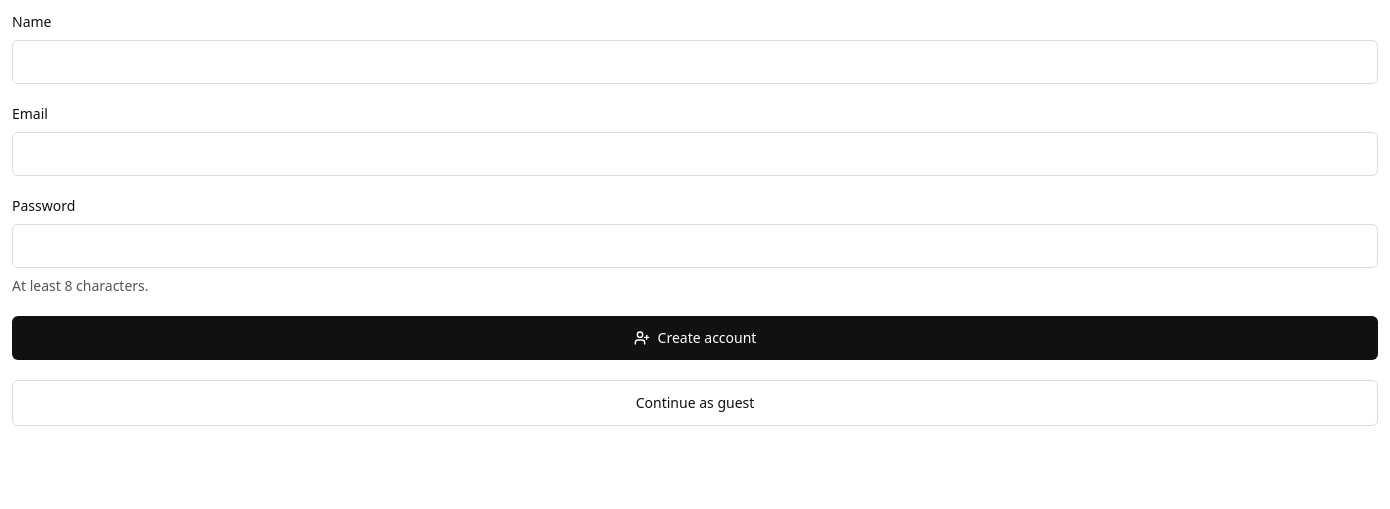
Test: SignupForm › shows a generic error when the server fails
The width and height of the screenshot is (1390, 509).
Type "Alice" into the field labelled "Name". click: (695, 62)
box: [12,40,1378,84]
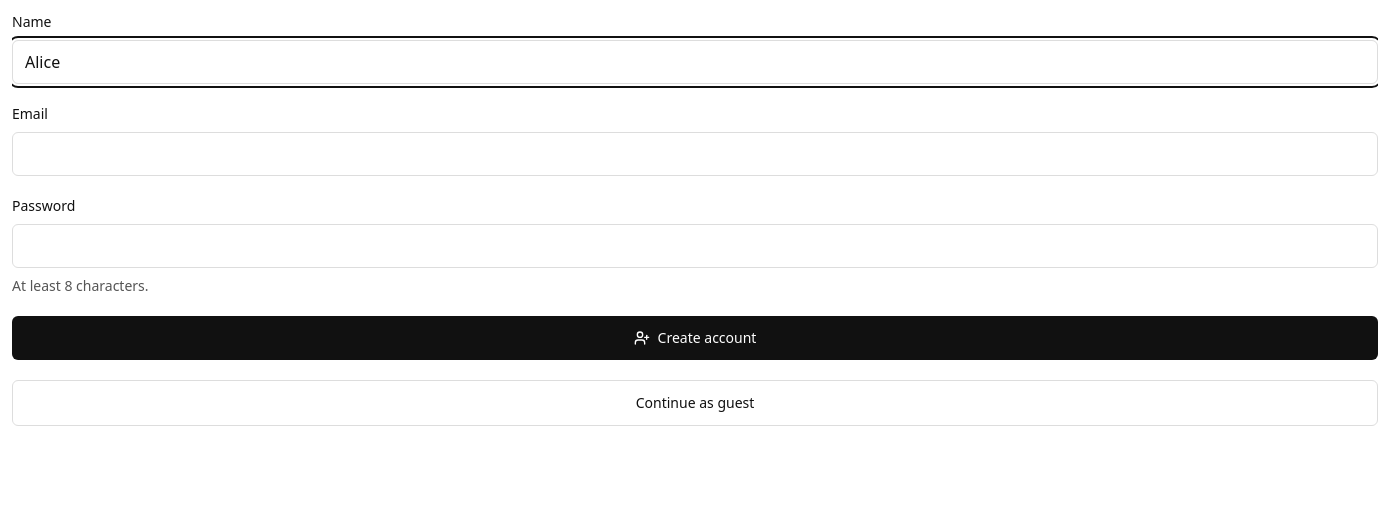
Type "alice@example.com" into the field labelled "Email". click: (695, 154)
box: [12,132,1378,176]
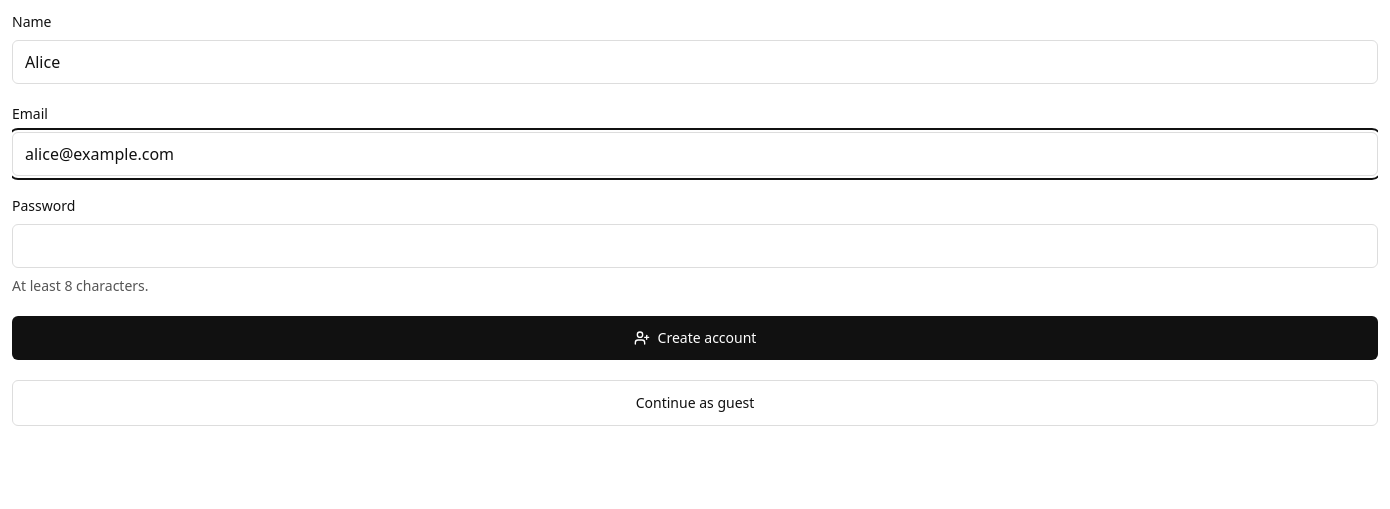
Type "correct horse" into the password field labelled "Password". click: (695, 246)
box: [12,224,1378,268]
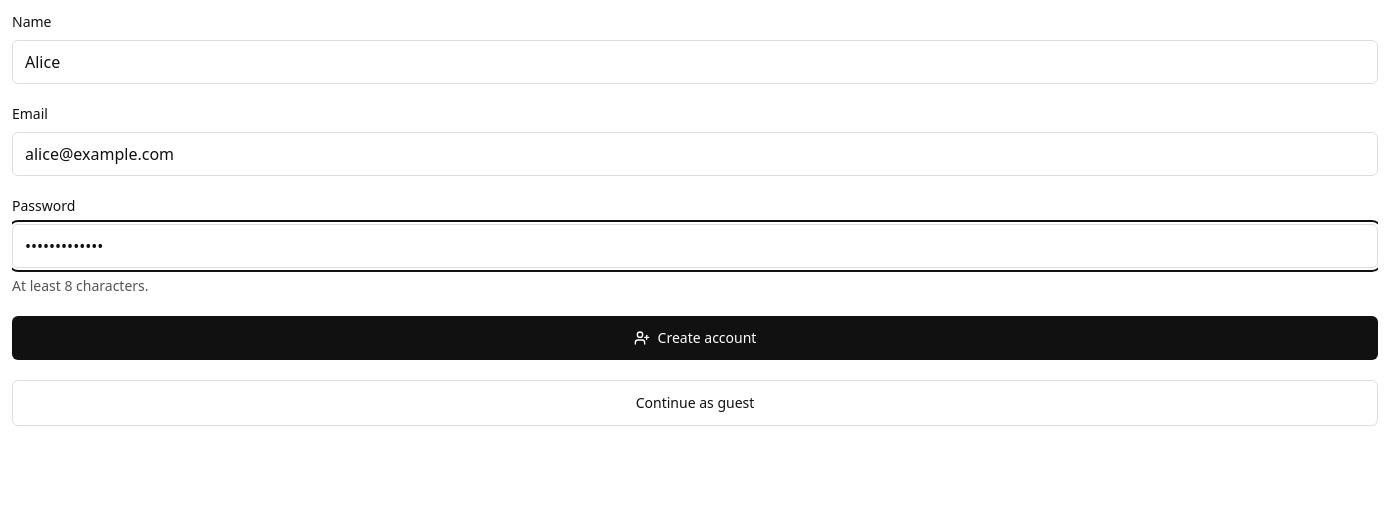
Click the button "Create account". click: click(695, 338)
box: [12,316,1378,360]
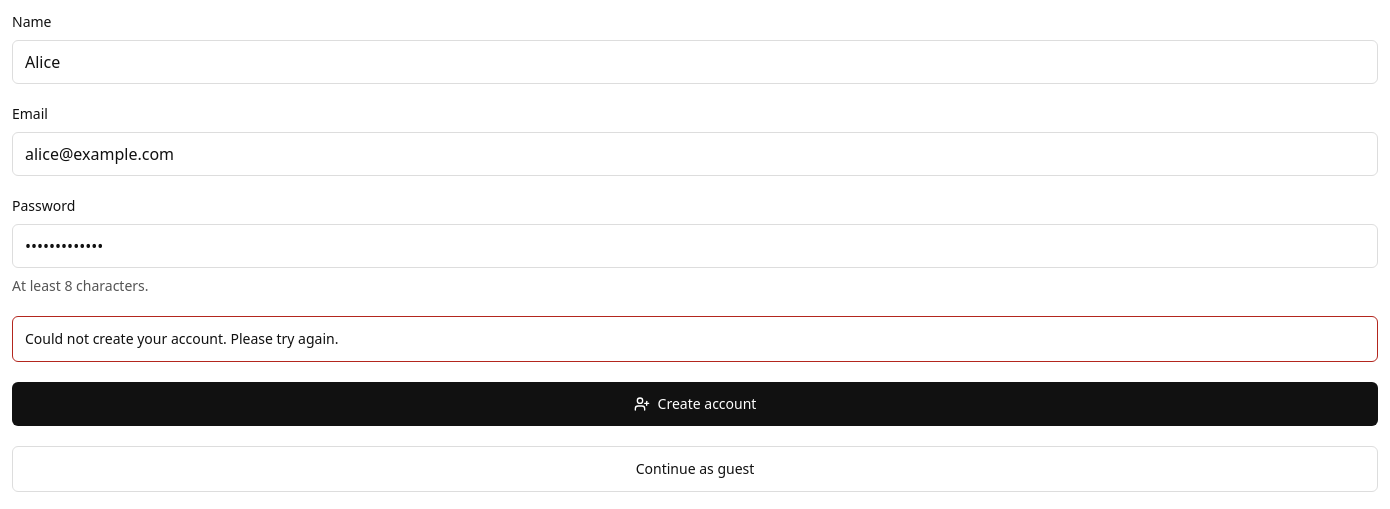
Result: the message reads "Could not create your account. Please try again." at [25,329,338,348]
